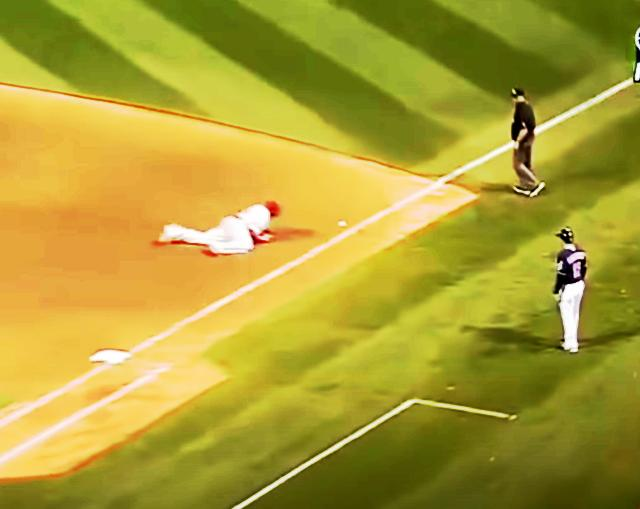jatuh: (154, 195, 286, 261)
